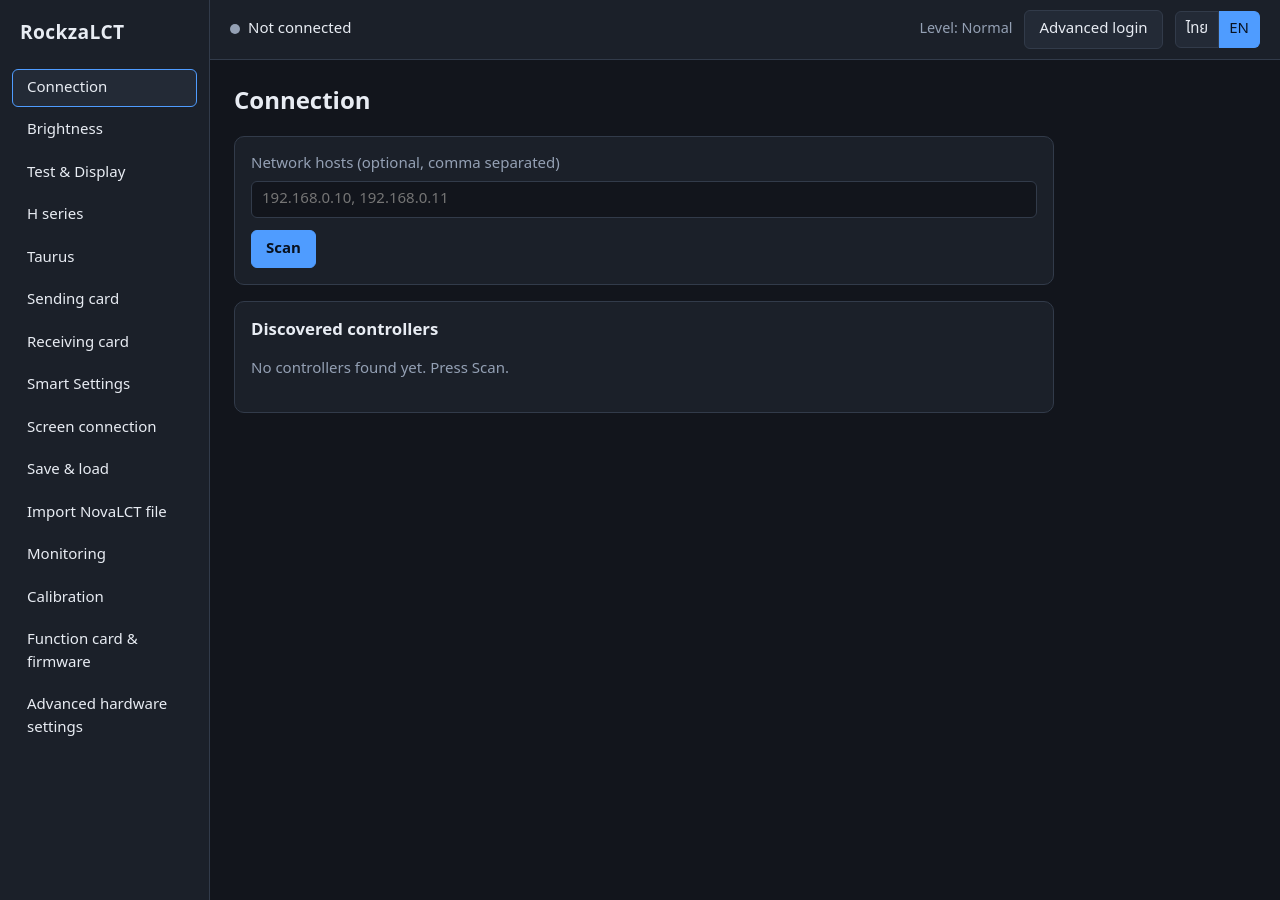
Test case: PersistPage: help and disconnected state › is inert while not connected and says NovaLCT files are not supported
Click the button "Save & load" at (104, 471), box [12,451,197,490]
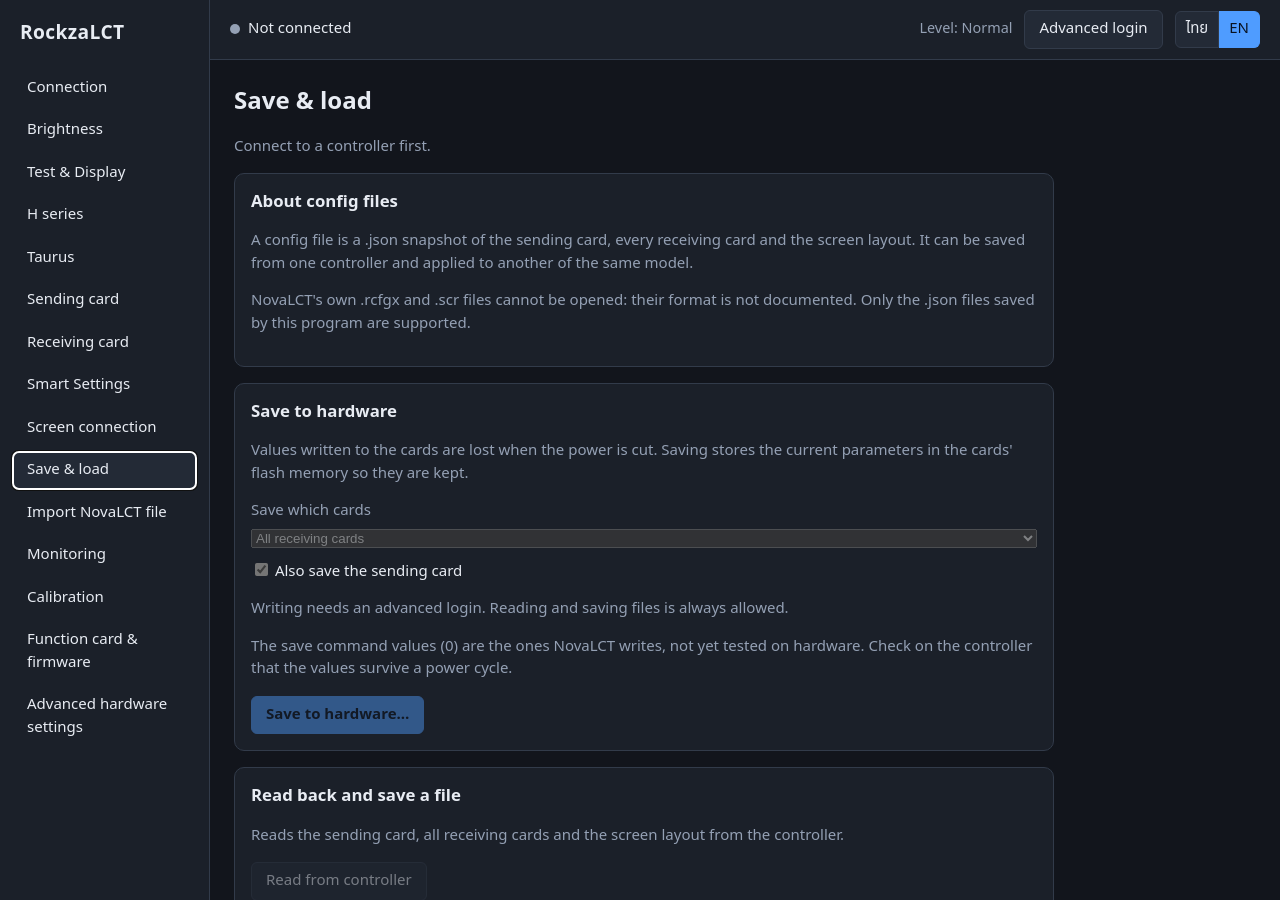
Expected: the text "Connect to a controller first." is shown, [234,134,431,158]
Expected: the button "Save to hardware…" is disabled, [251,696,424,734]
Expected: the button "Read from controller" is disabled, [251,862,427,899]
